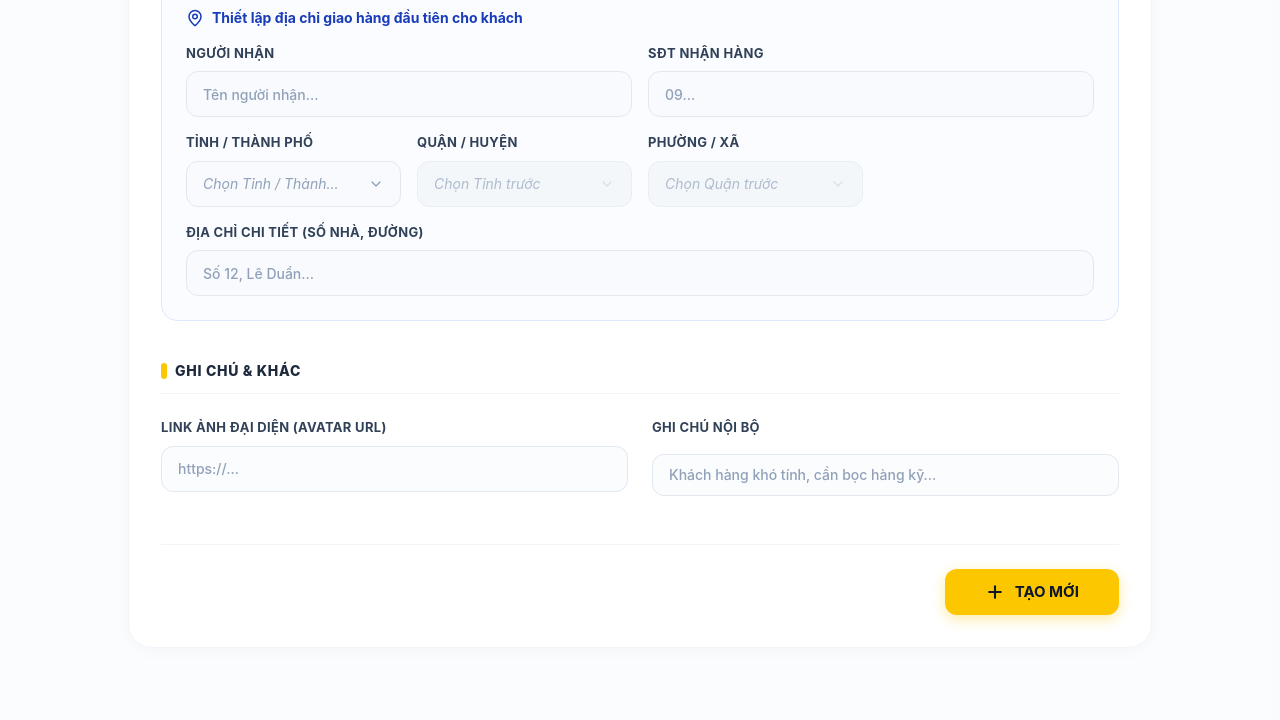
Test case: Module 06 - CustomerForm Component › TC02 - Hiển thị lỗi validation khi submit thiếu thông tin bắt buộc
(page scrolled)
Click the button "TẠO MỚI". click: {"x": 1032, "y": 592}
box: left=945, top=568, right=1119, bottom=615
(page scrolled)
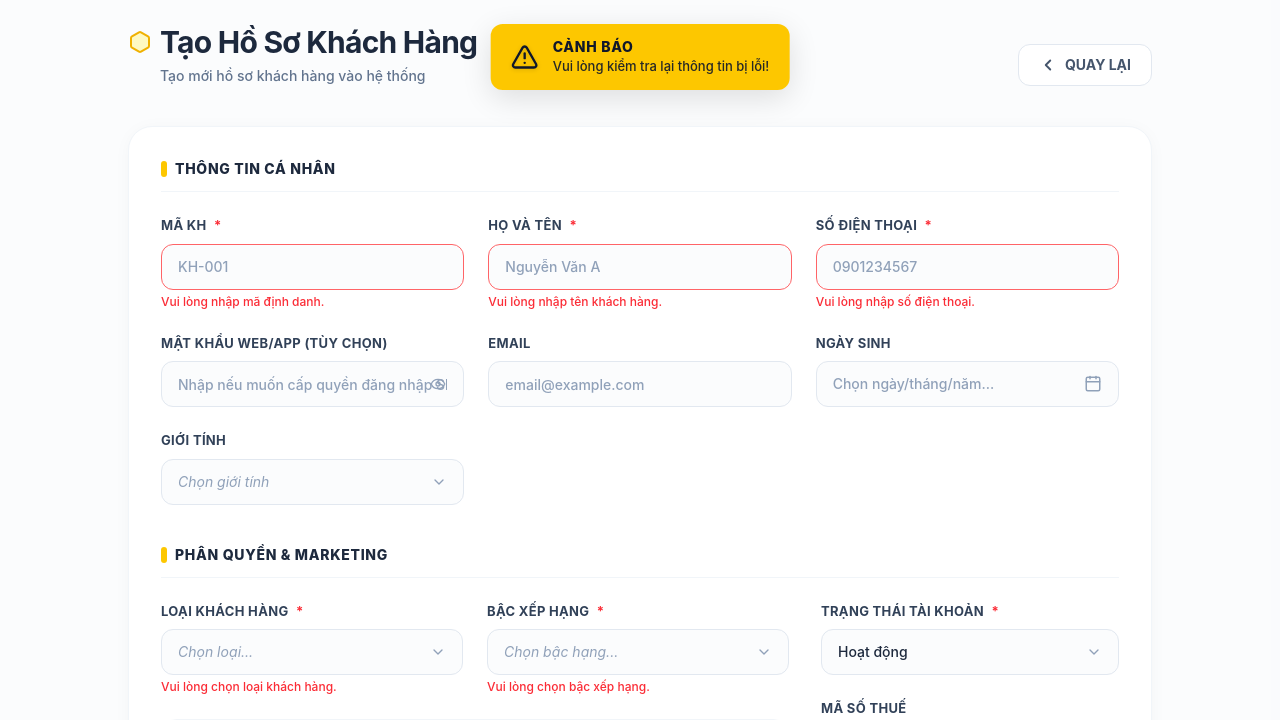
Check: the text "Vui lòng nhập mã định danh." is shown, box left=161, top=294, right=324, bottom=308
Check: the text "Vui lòng nhập tên khách hàng." is shown, box left=488, top=294, right=662, bottom=308
Check: the text "Vui lòng nhập số điện thoại." is shown, box left=816, top=294, right=975, bottom=308
